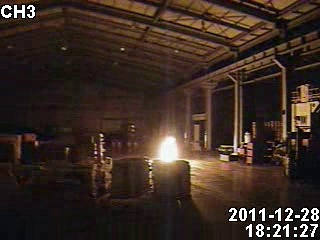fire: (157, 133, 181, 163)
